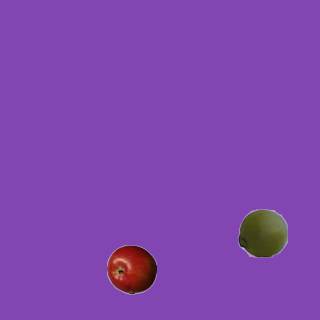Apple Braeburn: (106, 244, 156, 294)
Grape White 4: (237, 207, 287, 257)
